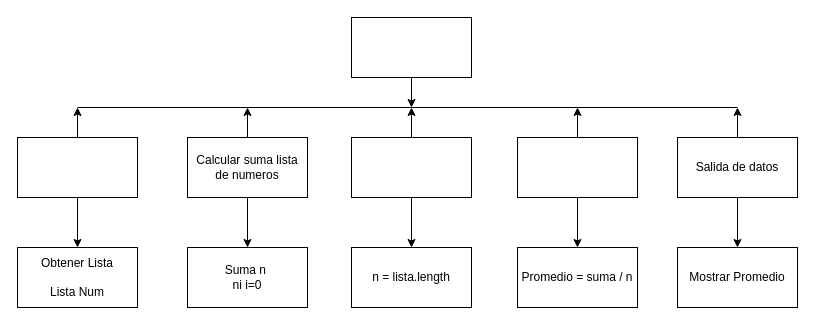
This 815x325 diagram has some shape labels left out. Each missing label, with the centre of its shape:
"Calcular promedio de la lista" belongs at point (577, 167).
"Calcular tamaño lista" belongs at point (411, 167).
"Entrada de datos" belongs at point (77, 167).
"Promedio Lista de numeros" belongs at point (411, 47).
